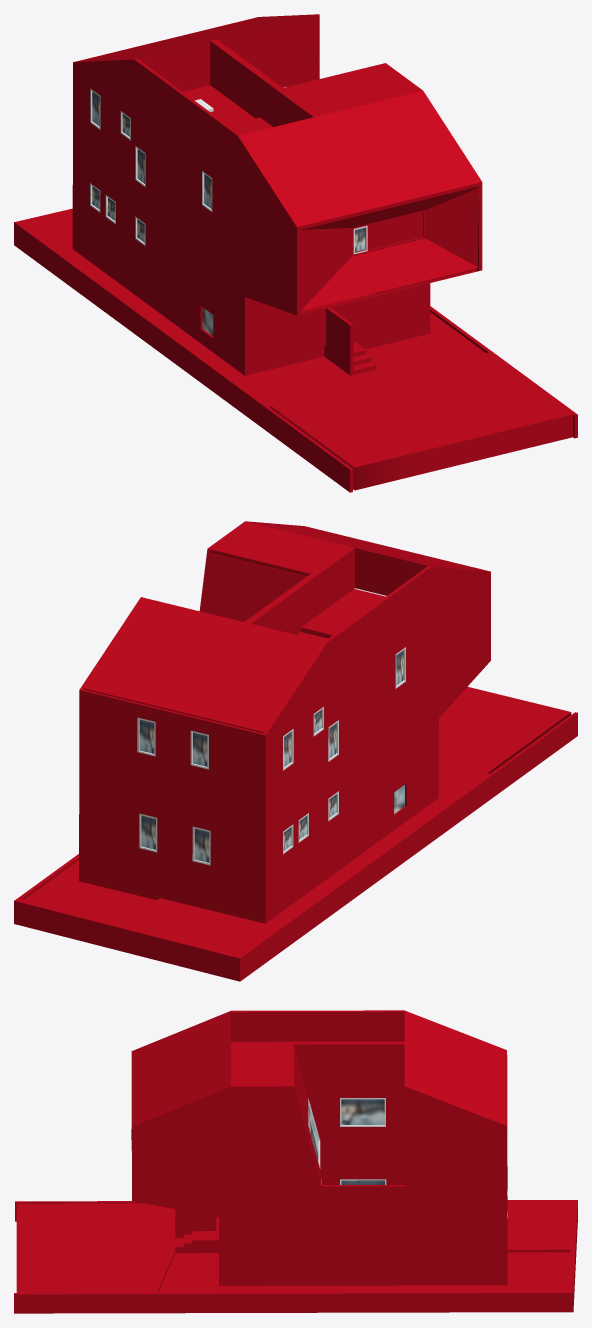
The model's file is asset.glb.
The picture shows the model from 3 angles, top to bottom: view 1: azimuth 30°, elevation 25°; view 2: azimuth 150°, elevation 25°; view 3: azimuth 270°, elevation 25°; orthographic projection. The views are drawn at different scales.
Parts seen in each view (by area): view 1: 3D_FACADE_BLACK, 3D_FIRST FLOOR, 3D_FACADE_REFLECTIVE, 3D_SURROUNDING CONTEXT, 3D_WALL, 3D_WINDOW FRAMES, 3d_Glass, 3D_TURF, 3D_FACADE_REFLECTIVE.001, Windows frames, 3D_FLOOR, 3D_FACADE_WHITE; view 2: 3D_FACADE_BLACK, 3D_FIRST FLOOR, 3D_SURROUNDING CONTEXT, 3D_FACADE_WHITE, 3D_TURF, 3d_Glass, 3D_WINDOW FRAMES, Windows frames, 3D_FLOOR, 3D_WALL; view 3: 3D_FACADE_BLACK, 3D_FIRST FLOOR, 3D_SURROUNDING CONTEXT, 3D_FACADE_WHITE, 3D_TURF, 3d_Glass, Windows frames.
Part boxes in pixels (<box>): 3D_FACADE_BLACK: <box>72,14,482,363</box>; 3D_FIRST FLOOR: <box>31,212,572,490</box>; 3D_FACADE_REFLECTIVE: <box>300,186,478,314</box>; 3D_SURROUNDING CONTEXT: <box>14,208,577,492</box>; 3D_WALL: <box>141,18,316,91</box>; 3D_WINDOW FRAMES: <box>210,44,309,126</box>; 3d_Glass: <box>92,91,423,251</box>; 3D_TURF: <box>366,312,485,369</box>; 3D_FACADE_REFLECTIVE.001: <box>425,187,478,266</box>; Windows frames: <box>90,87,425,336</box>; 3D_FLOOR: <box>183,85,476,293</box>; 3D_FACADE_WHITE: <box>210,39,282,91</box>; 3D_FACADE_BLACK: <box>79,521,490,911</box>; 3D_FIRST FLOOR: <box>79,686,571,950</box>; 3D_SURROUNDING CONTEXT: <box>14,712,577,981</box>; 3D_FACADE_WHITE: <box>203,553,317,624</box>; 3D_TURF: <box>24,860,156,924</box>; 3d_Glass: <box>139,650,403,862</box>; 3D_WINDOW FRAMES: <box>254,552,354,634</box>; Windows frames: <box>137,647,405,865</box>; 3D_FLOOR: <box>297,588,386,641</box>; 3D_WALL: <box>355,551,424,595</box>; 3D_FACADE_BLACK: <box>131,1010,507,1272</box>; 3D_FIRST FLOOR: <box>16,1201,571,1292</box>; 3D_SURROUNDING CONTEXT: <box>14,1200,577,1313</box>; 3D_FACADE_WHITE: <box>293,1041,404,1184</box>; 3D_TURF: <box>158,1252,569,1292</box>; 3d_Glass: <box>308,1099,384,1184</box>; Windows frames: <box>308,1098,507,1217</box>.
Bounding box in the file's own units: 8.07 × 8.79 × 20.69.
6 materials, 1 textured.
